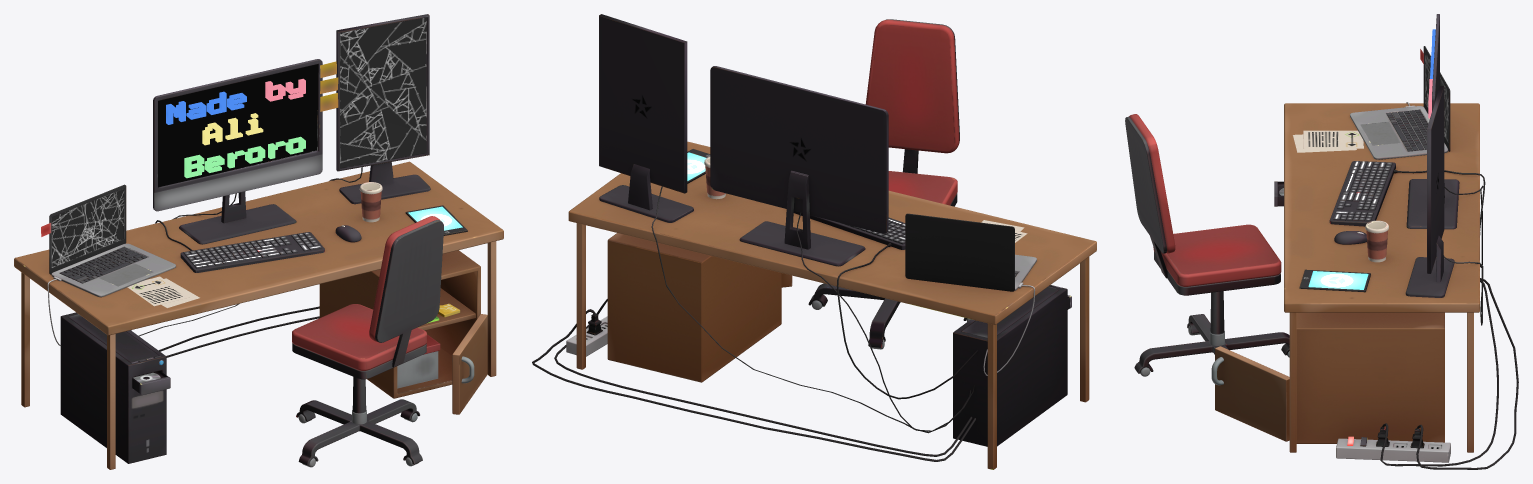
Rendered from desk.gltf.
The picture shows the model from 3 angles, left to right: view 1: azimuth 30°, elevation 25°; view 2: azimuth 150°, elevation 25°; view 3: azimuth 270°, elevation 25°; orthographic projection. The views are drawn at different scales.
Visible parts, largest first — view 1: Final, Plane, Text; view 2: Final; view 3: Final.
Part boxes in pixels (bbox=[...]): Final: bbox=[14, 14, 503, 469]; Plane: bbox=[158, 64, 318, 187]; Text: bbox=[166, 78, 305, 178]; Final: bbox=[532, 14, 1096, 469]; Final: bbox=[1125, 14, 1518, 469].
Bounding box in the file's own units: 2.36 × 1.64 × 1.81.
6 materials, 1 textured.
